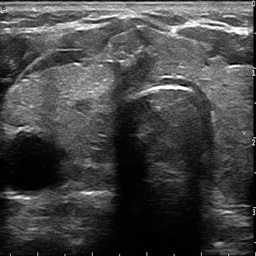mass: (110, 24, 150, 91)
